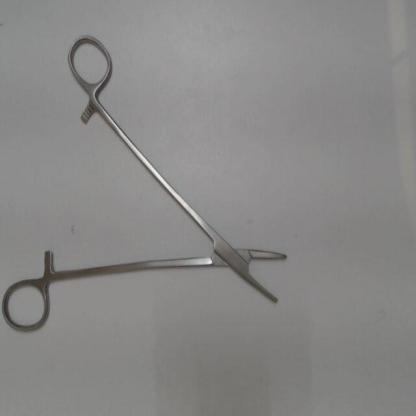8 Mayo Needle Holder: (1, 26, 304, 340)
